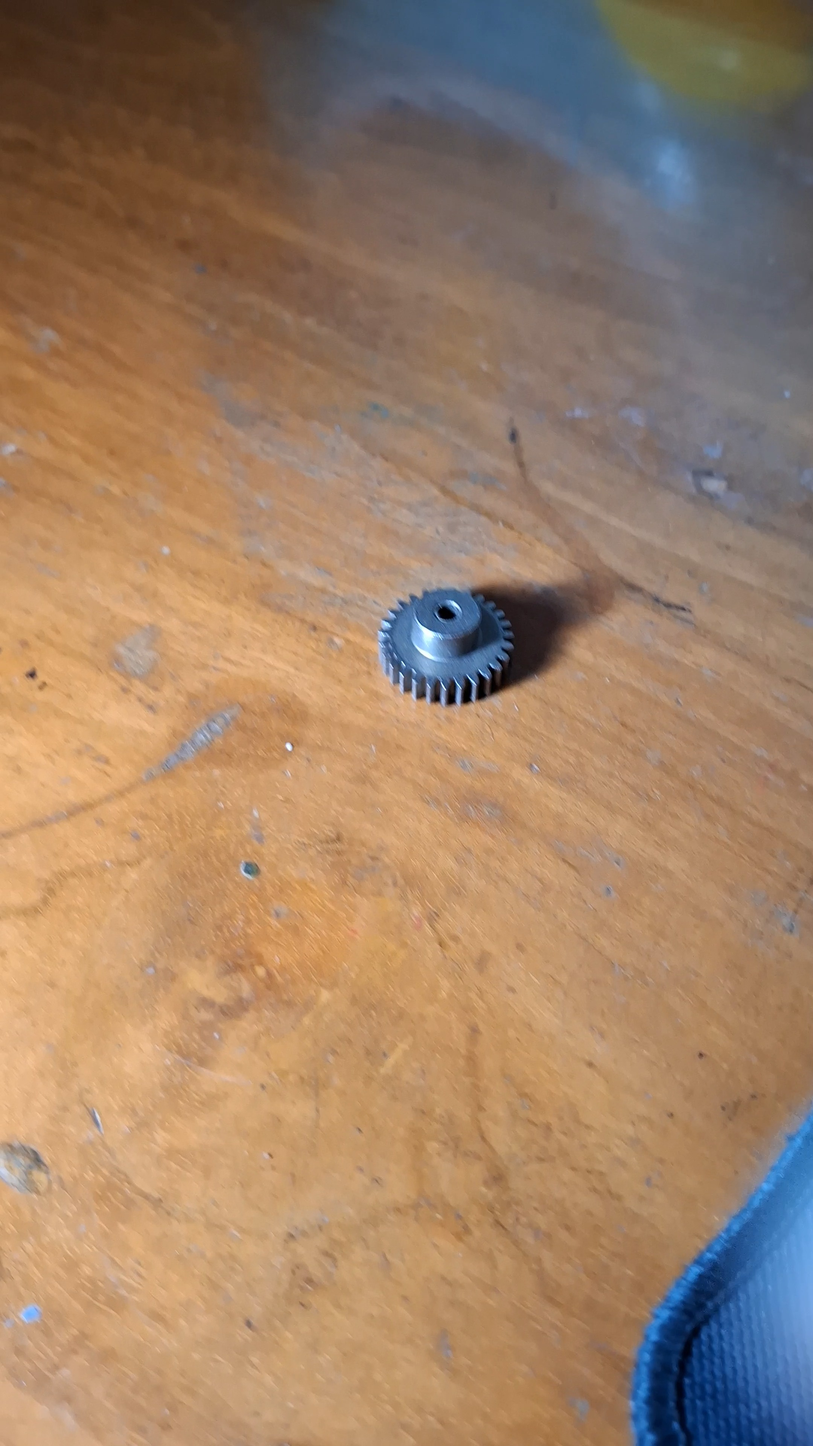spur gear: (379, 589, 513, 704)
